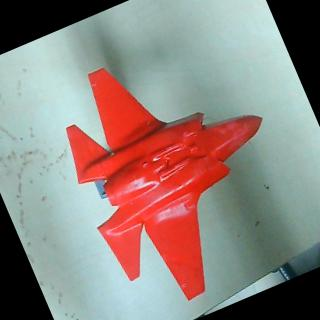Jet: (39, 17, 318, 320)
